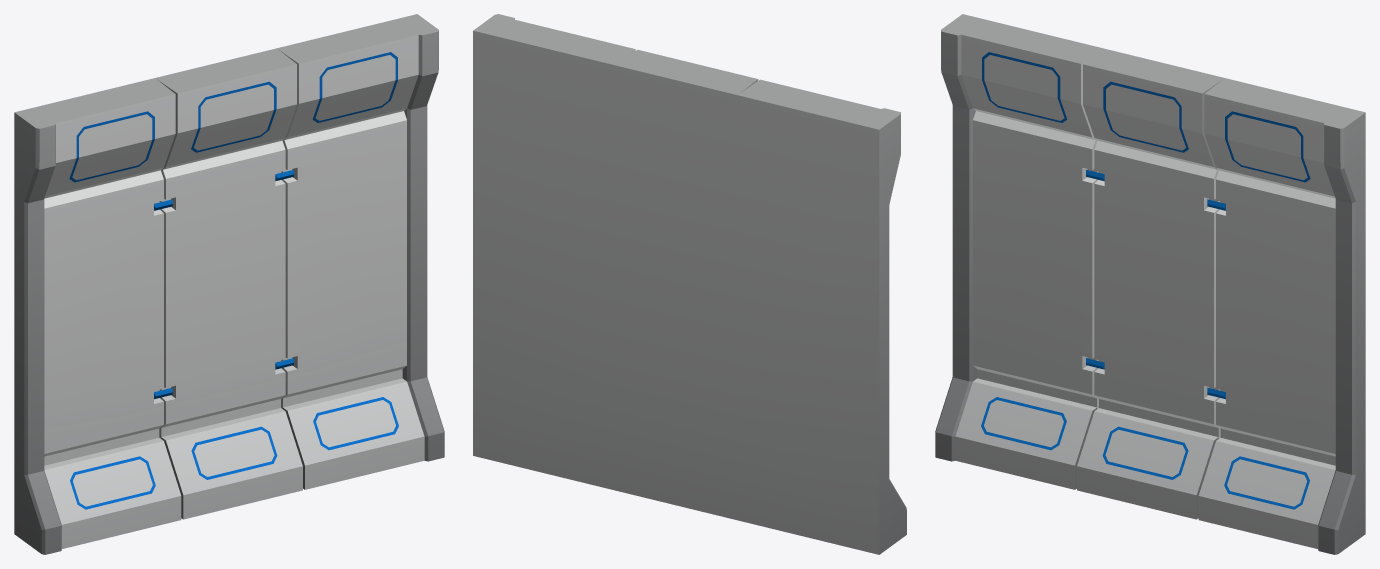
The model's file is Wall_type_A_002.fbx.
The picture shows the model from 3 angles, left to right: view 1: azimuth 30°, elevation 25°; view 2: azimuth 150°, elevation 25°; view 3: azimuth 330°, elevation 25°; orthographic projection.
Visible parts, largest first — view 1: Wall_type_A_002; view 2: Wall_type_A_002; view 3: Wall_type_A_002.
Part boxes in pixels (x1,y1,x2,y2): Wall_type_A_002: [14, 14, 444, 554]; Wall_type_A_002: [473, 14, 906, 554]; Wall_type_A_002: [935, 14, 1365, 554].
Size of the model in its own units: 400 by 50 by 400.
